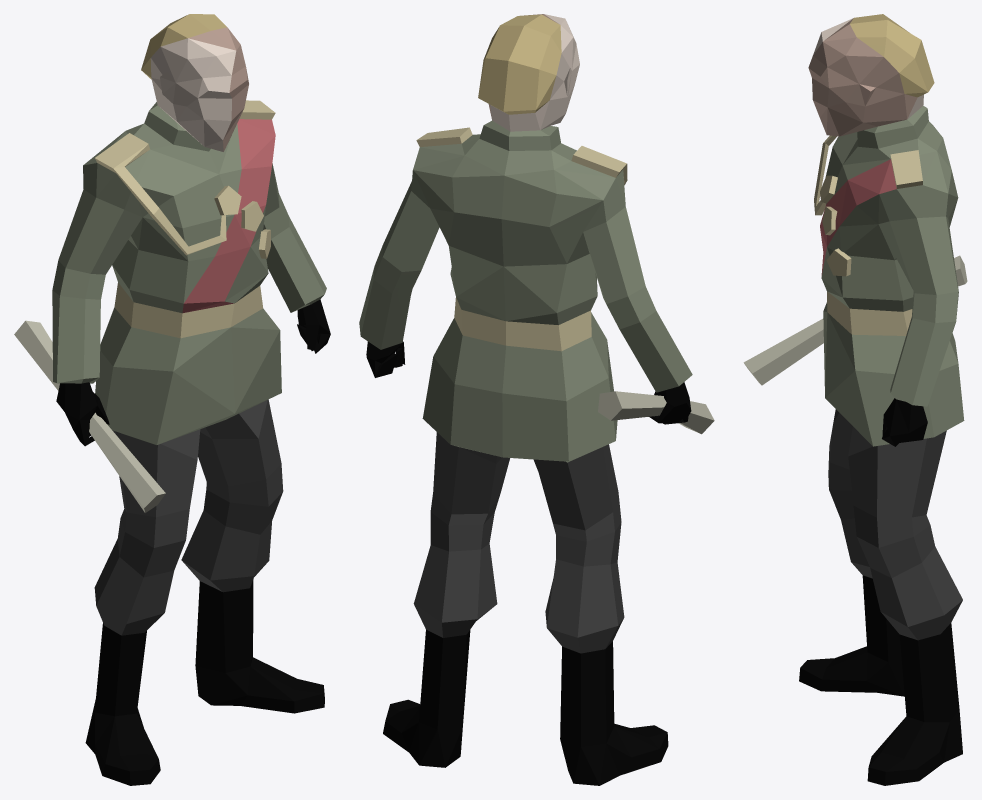
File: low-poly_german_colonel_sucker_punch.glb
3 renders of one model, left to right at view 1: azimuth 30°, elevation 25°; view 2: azimuth 150°, elevation 25°; view 3: azimuth 270°, elevation 25°, orthographic. The views are drawn at different scales.
Visible parts, largest first — view 1: Zombie.obj_Khaki-Dark_0, Zombie.obj_Black_0, Zombie.obj_Black-Dark_0, Zombie.obj_Gold_0, Zombie.obj_Skin-Cau_0, Zombie.obj_Red_0, Zombie.obj_Khaki_0, Zombie.obj_Skin-Dark_0, Zombie.obj_Hair-Blonde_0; view 2: Zombie.obj_Khaki-Dark_0, Zombie.obj_Black_0, Zombie.obj_Black-Dark_0, Zombie.obj_Hair-Blonde_0, Zombie.obj_Gold_0, Zombie.obj_Skin-Cau_0, Zombie.obj_Khaki_0; view 3: Zombie.obj_Khaki-Dark_0, Zombie.obj_Black_0, Zombie.obj_Black-Dark_0, Zombie.obj_Skin-Dark_0, Zombie.obj_Gold_0, Zombie.obj_Hair-Blonde_0, Zombie.obj_Khaki_0, Zombie.obj_Red_0, Zombie.obj_Skin-Cau_0.
Boxes of the visible parts, x1,y1,x2,y2 form: Zombie.obj_Khaki-Dark_0: [52, 102, 326, 444]; Zombie.obj_Black_0: [94, 399, 283, 635]; Zombie.obj_Black-Dark_0: [56, 299, 330, 785]; Zombie.obj_Gold_0: [95, 100, 275, 338]; Zombie.obj_Skin-Cau_0: [150, 38, 236, 151]; Zombie.obj_Red_0: [182, 119, 275, 313]; Zombie.obj_Khaki_0: [14, 320, 165, 512]; Zombie.obj_Skin-Dark_0: [188, 27, 248, 151]; Zombie.obj_Hair-Blonde_0: [141, 14, 226, 79]; Zombie.obj_Khaki-Dark_0: [359, 120, 692, 462]; Zombie.obj_Black_0: [413, 432, 624, 653]; Zombie.obj_Black-Dark_0: [366, 341, 691, 785]; Zombie.obj_Hair-Blonde_0: [478, 14, 561, 114]; Zombie.obj_Gold_0: [416, 127, 627, 351]; Zombie.obj_Skin-Cau_0: [490, 14, 579, 131]; Zombie.obj_Khaki_0: [598, 391, 714, 434]; Zombie.obj_Khaki-Dark_0: [821, 106, 964, 446]; Zombie.obj_Black_0: [828, 409, 962, 640]; Zombie.obj_Black-Dark_0: [799, 398, 962, 785]; Zombie.obj_Skin-Dark_0: [808, 18, 917, 136]; Zombie.obj_Gold_0: [814, 135, 922, 335]; Zombie.obj_Hair-Blonde_0: [850, 14, 934, 97]; Zombie.obj_Khaki_0: [743, 255, 967, 385]; Zombie.obj_Red_0: [820, 159, 896, 275]; Zombie.obj_Skin-Cau_0: [813, 18, 923, 118].
Size of the model in its own units: 0.8578 by 1.96 by 0.5671.
